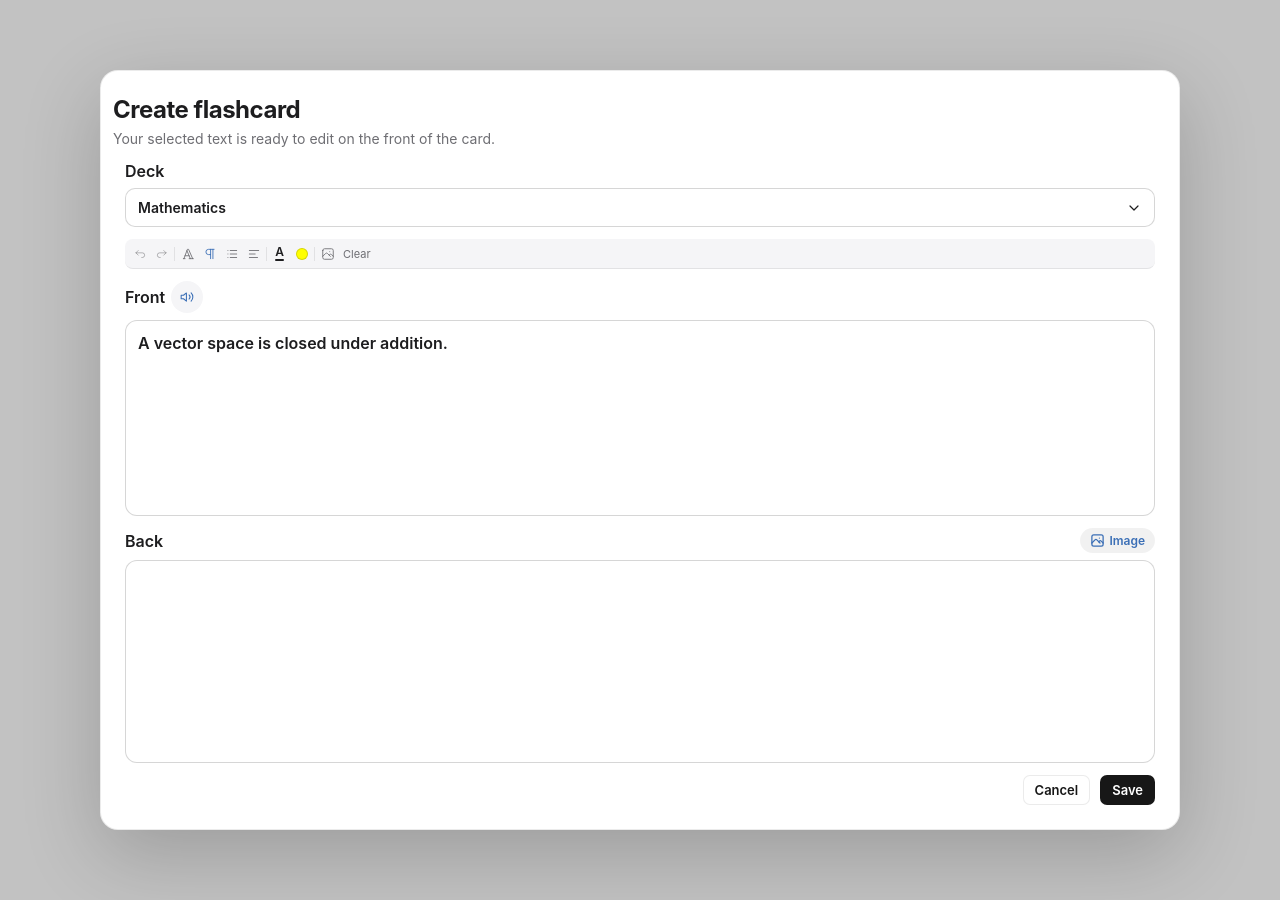
Test case: disables the shared toolbar when neither face is focused
The image size is (1280, 900).
Click the dropdown named "Deck".
click(182, 208)  # box x1=125 y1=188 x2=1155 y2=227
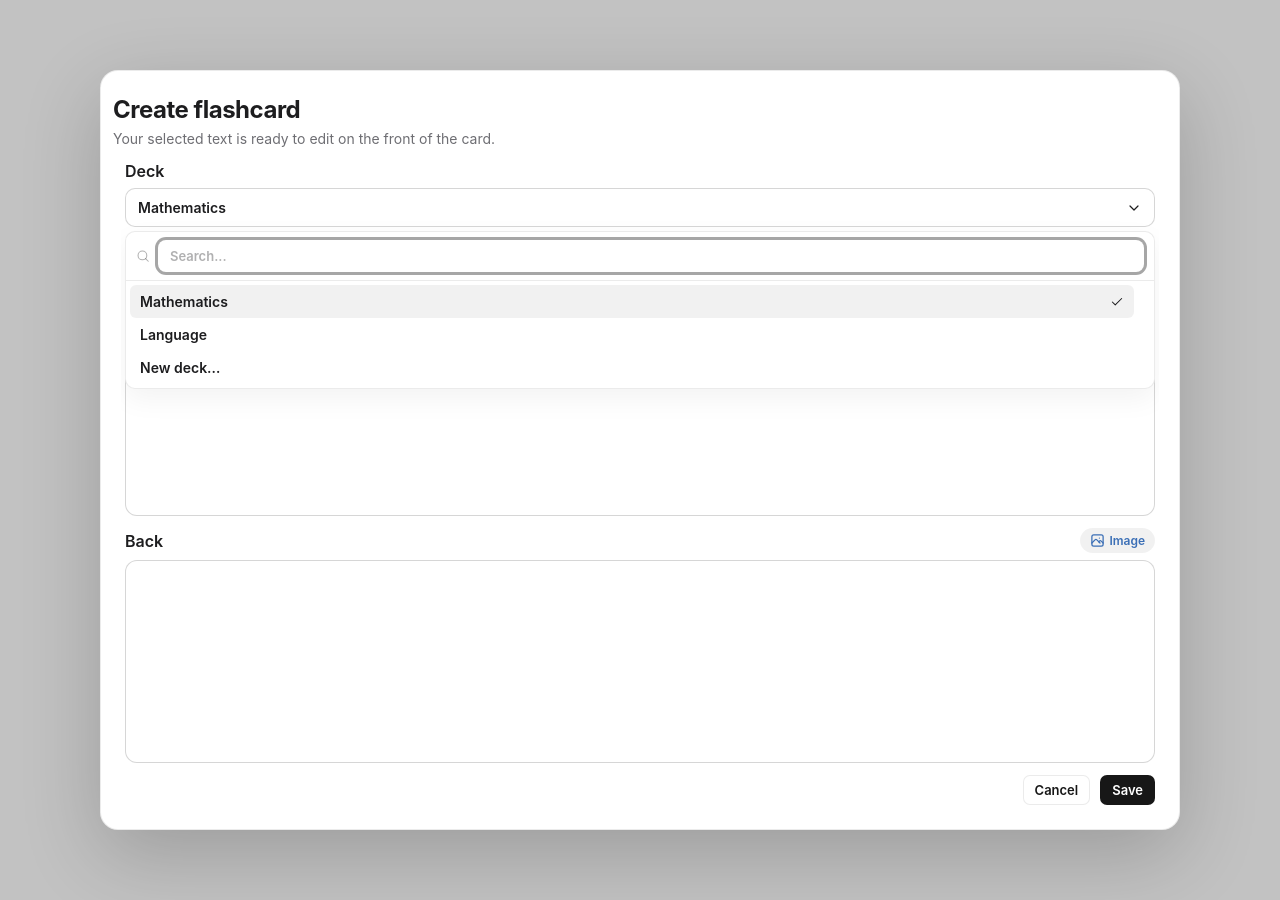
Expected: the button named "Undo" is disabled, x1=129 y1=242 x2=150 y2=265
Result: the button named "Text formatting" is disabled at x1=177 y1=242 x2=198 y2=265
